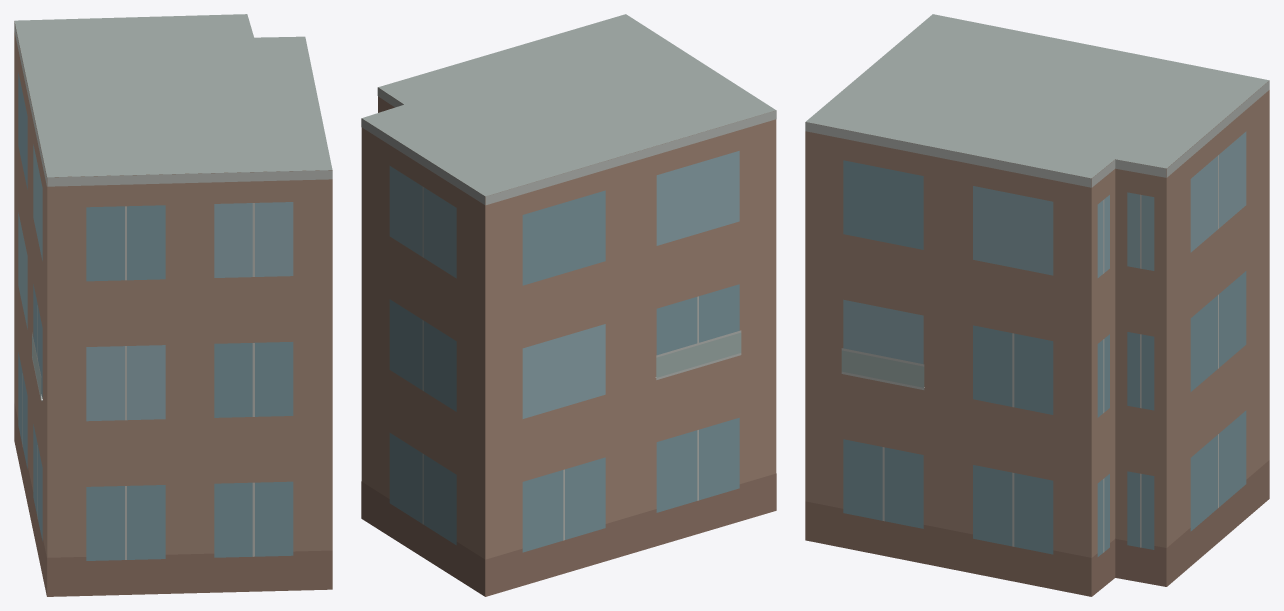
Rendered from survey-upis-32498830.glb.
The picture shows the model from 3 angles, left to right: view 1: azimuth 30°, elevation 25°; view 2: azimuth 150°, elevation 25°; view 3: azimuth 270°, elevation 25°; orthographic projection. The views are drawn at different scales.
Visible parts, largest first — view 1: survey-upis-32498830.tmp; view 2: survey-upis-32498830.tmp; view 3: survey-upis-32498830.tmp.
Part boxes in pixels (bbox=[...]): survey-upis-32498830.tmp: bbox=[14, 14, 332, 596]; survey-upis-32498830.tmp: bbox=[361, 14, 776, 596]; survey-upis-32498830.tmp: bbox=[805, 14, 1269, 596].
Bounding box in the file's own units: 9.19 × 10.9 × 10.97.
